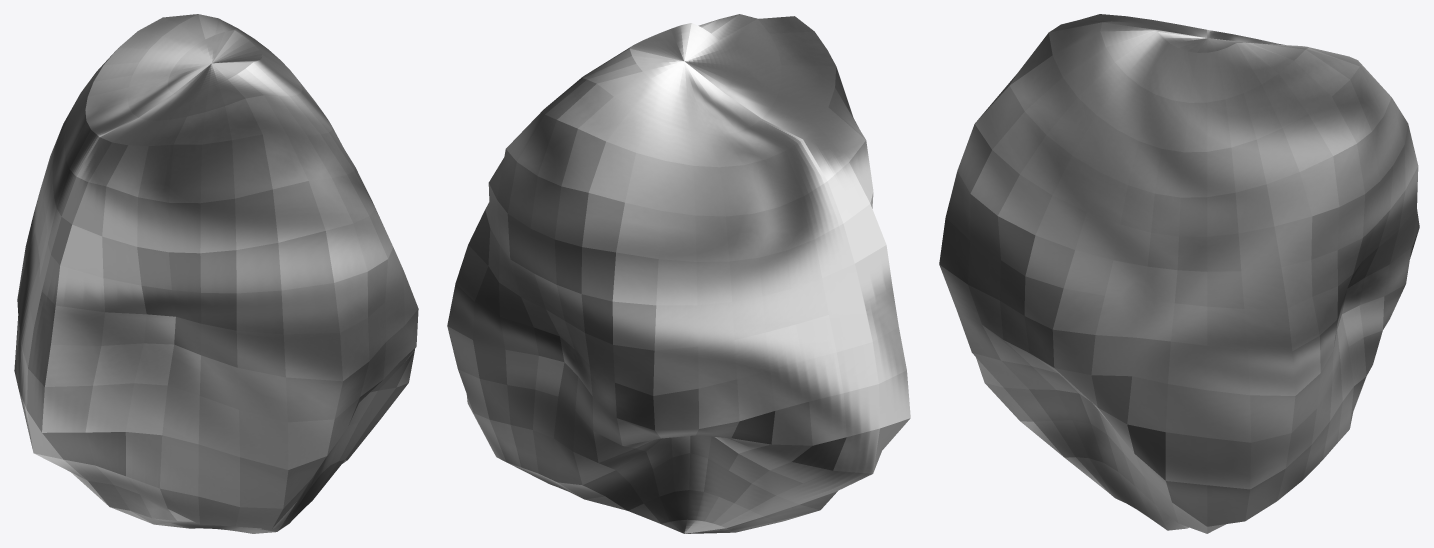
File: Rocks.fbx
3 renders of one model, left to right at view 1: azimuth 30°, elevation 25°; view 2: azimuth 150°, elevation 25°; view 3: azimuth 270°, elevation 25°, orthographic. The views are drawn at different scales.
Parts seen in each view (by area): view 1: Sphere; view 2: Sphere; view 3: Sphere.
Boxes of the visible parts, bbox=[...] form: Sphere: bbox=[14, 14, 418, 533]; Sphere: bbox=[447, 14, 910, 533]; Sphere: bbox=[939, 14, 1419, 533].
Bounding box in the file's own units: 206 × 246 × 221.
